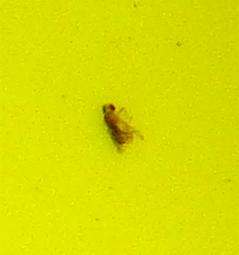Brachycera: (100, 100, 139, 155)
